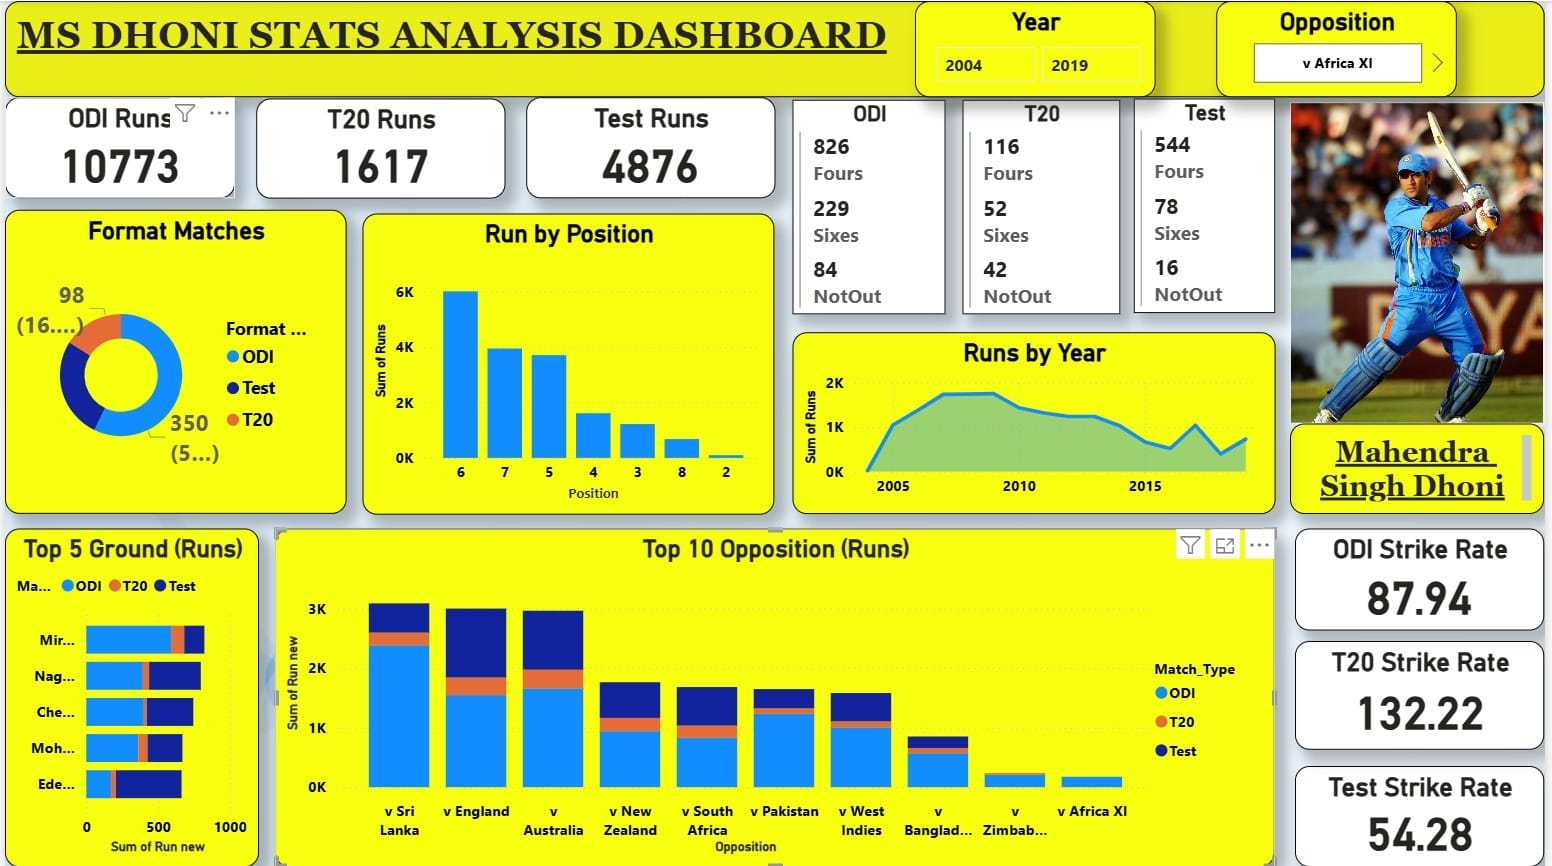

The dashboard page shown, as its layout file describes it:
{"tool":"powerbi","page":{"name":"Page 1","canvas":[1280,720],"ordinal":0},"visuals":[{"type":"textbox","box":[0,0,1280,80],"z":0},{"type":"image","box":[1068.8,83.8,211.2,267.5],"z":1000},{"type":"textbox","box":[1068.8,351.2,211.2,75],"z":2000},{"type":"card","title":"ODI Runs","fields":{"Values":["Sum(FINAL Data MSD.Run new)"]},"box":[0,80,191.4,84.3],"z":3000},{"type":"card","title":"T20 Runs","fields":{"Values":["Sum(FINAL Data MSD.Run new)"]},"box":[208.6,81.4,207.1,82.9],"z":4000},{"type":"card","title":"Test Runs","fields":{"Values":["Sum(FINAL Data MSD.Run new)"]},"box":[432.9,80,207.1,84.3],"z":5000},{"type":"card","title":"Test Strike Rate","fields":{"Values":["Avg(FINAL Data MSD.SR)"]},"box":[1072.5,636.2,207.5,83.8],"z":6000},{"type":"card","title":" ODI Strike Rate","fields":{"Values":["Avg(FINAL Data MSD.SR)"]},"box":[1072.5,438.8,207.5,85],"z":7000},{"type":"card","title":"T20 Strike Rate","fields":{"Values":["Avg(FINAL Data MSD.SR)"]},"box":[1072.5,532.5,207.5,90],"z":8000},{"type":"multiRowCard","title":"ODI","fields":{"Values":["Sum(FINAL Data MSD.4s)","Sum(FINAL Data MSD.6s)","FINAL Data MSD.NotOut"]},"box":[655,82.5,127.5,178.8],"z":9000},{"type":"multiRowCard","title":"T20","fields":{"Values":["Sum(FINAL Data MSD.4s)","Sum(FINAL Data MSD.6s)","FINAL Data MSD.NotOut"]},"box":[796.2,82.5,131.2,178.8],"z":10000},{"type":"multiRowCard","title":"Test","fields":{"Values":["Sum(FINAL Data MSD.4s)","Sum(FINAL Data MSD.6s)","FINAL Data MSD.NotOut"]},"box":[938.8,81.2,117.5,178.8],"z":11000},{"type":"donutChart","title":"Format Matches","fields":{"Category":["FINAL Data MSD.Match_Type"],"Y":["CountNonNull(FINAL Data MSD.Index)"]},"box":[0,173.8,283.8,252.5],"z":12000},{"type":"columnChart","title":"Top 10 Opposition (Runs)","fields":{"Category":["FINAL Data MSD.Opposition"],"Y":["Sum(FINAL Data MSD.Run new)"],"Series":["FINAL Data MSD.Match_Type"]},"box":[225,438.8,831.2,281.2],"z":13000},{"type":"barChart","title":"Top 5 Ground (Runs)","fields":{"Y":["Sum(FINAL Data MSD.Run new)"],"Series":["FINAL Data MSD.Match_Type"],"Category":["FINAL Data MSD.Ground"]},"box":[0,438.8,211.2,281.2],"z":14000},{"type":"areaChart","title":"Runs by Year","fields":{"Category":["FINAL Data MSD.Date.Variation.Date Hierarchy.Year"],"Y":["Sum(FINAL Data MSD.Run new)"]},"box":[655,275,401.2,151.2],"z":15000},{"type":"clusteredColumnChart","title":"Run by Position","fields":{"Category":["FINAL Data MSD.Position"],"Y":["Sum(FINAL Data MSD.Run new)"]},"box":[297.5,176.2,342.5,250],"z":16000},{"type":"slicer","title":"Year","fields":{"Values":["FINAL Data MSD.Date.Variation.Date Hierarchy.Year"]},"box":[756.2,0,200,80],"z":17000},{"type":"slicer","title":"Opposition","fields":{"Values":["FINAL Data MSD.Opposition"]},"box":[1007.5,0,200,80],"z":18000}]}

Visuals, with their boxes in screenshot pixels (x1, y1, x2, y2), scaled from the page's 1280x720 canvas onto the 1552x866 screenshot:
textbox: pyautogui.locateOnScreen(0, 0, 1551, 96)
image: pyautogui.locateOnScreen(1296, 101, 1551, 423)
textbox: pyautogui.locateOnScreen(1296, 422, 1551, 513)
"ODI Runs" card: pyautogui.locateOnScreen(0, 96, 232, 198)
"T20 Runs" card: pyautogui.locateOnScreen(253, 98, 504, 198)
"Test Runs" card: pyautogui.locateOnScreen(525, 96, 776, 198)
"Test Strike Rate" card: pyautogui.locateOnScreen(1300, 765, 1551, 865)
" ODI Strike Rate" card: pyautogui.locateOnScreen(1300, 528, 1551, 630)
"T20 Strike Rate" card: pyautogui.locateOnScreen(1300, 640, 1551, 749)
"ODI" multiRowCard: pyautogui.locateOnScreen(794, 99, 949, 314)
"T20" multiRowCard: pyautogui.locateOnScreen(965, 99, 1124, 314)
"Test" multiRowCard: pyautogui.locateOnScreen(1138, 98, 1281, 313)
"Format Matches" donutChart: pyautogui.locateOnScreen(0, 209, 344, 513)
"Top 10 Opposition (Runs)" columnChart: pyautogui.locateOnScreen(273, 528, 1281, 865)
"Top 5 Ground (Runs)" barChart: pyautogui.locateOnScreen(0, 528, 256, 865)
"Runs by Year" areaChart: pyautogui.locateOnScreen(794, 331, 1281, 513)
"Run by Position" clusteredColumnChart: pyautogui.locateOnScreen(361, 212, 776, 513)
"Year" slicer: pyautogui.locateOnScreen(917, 0, 1159, 96)
"Opposition" slicer: pyautogui.locateOnScreen(1222, 0, 1464, 96)
